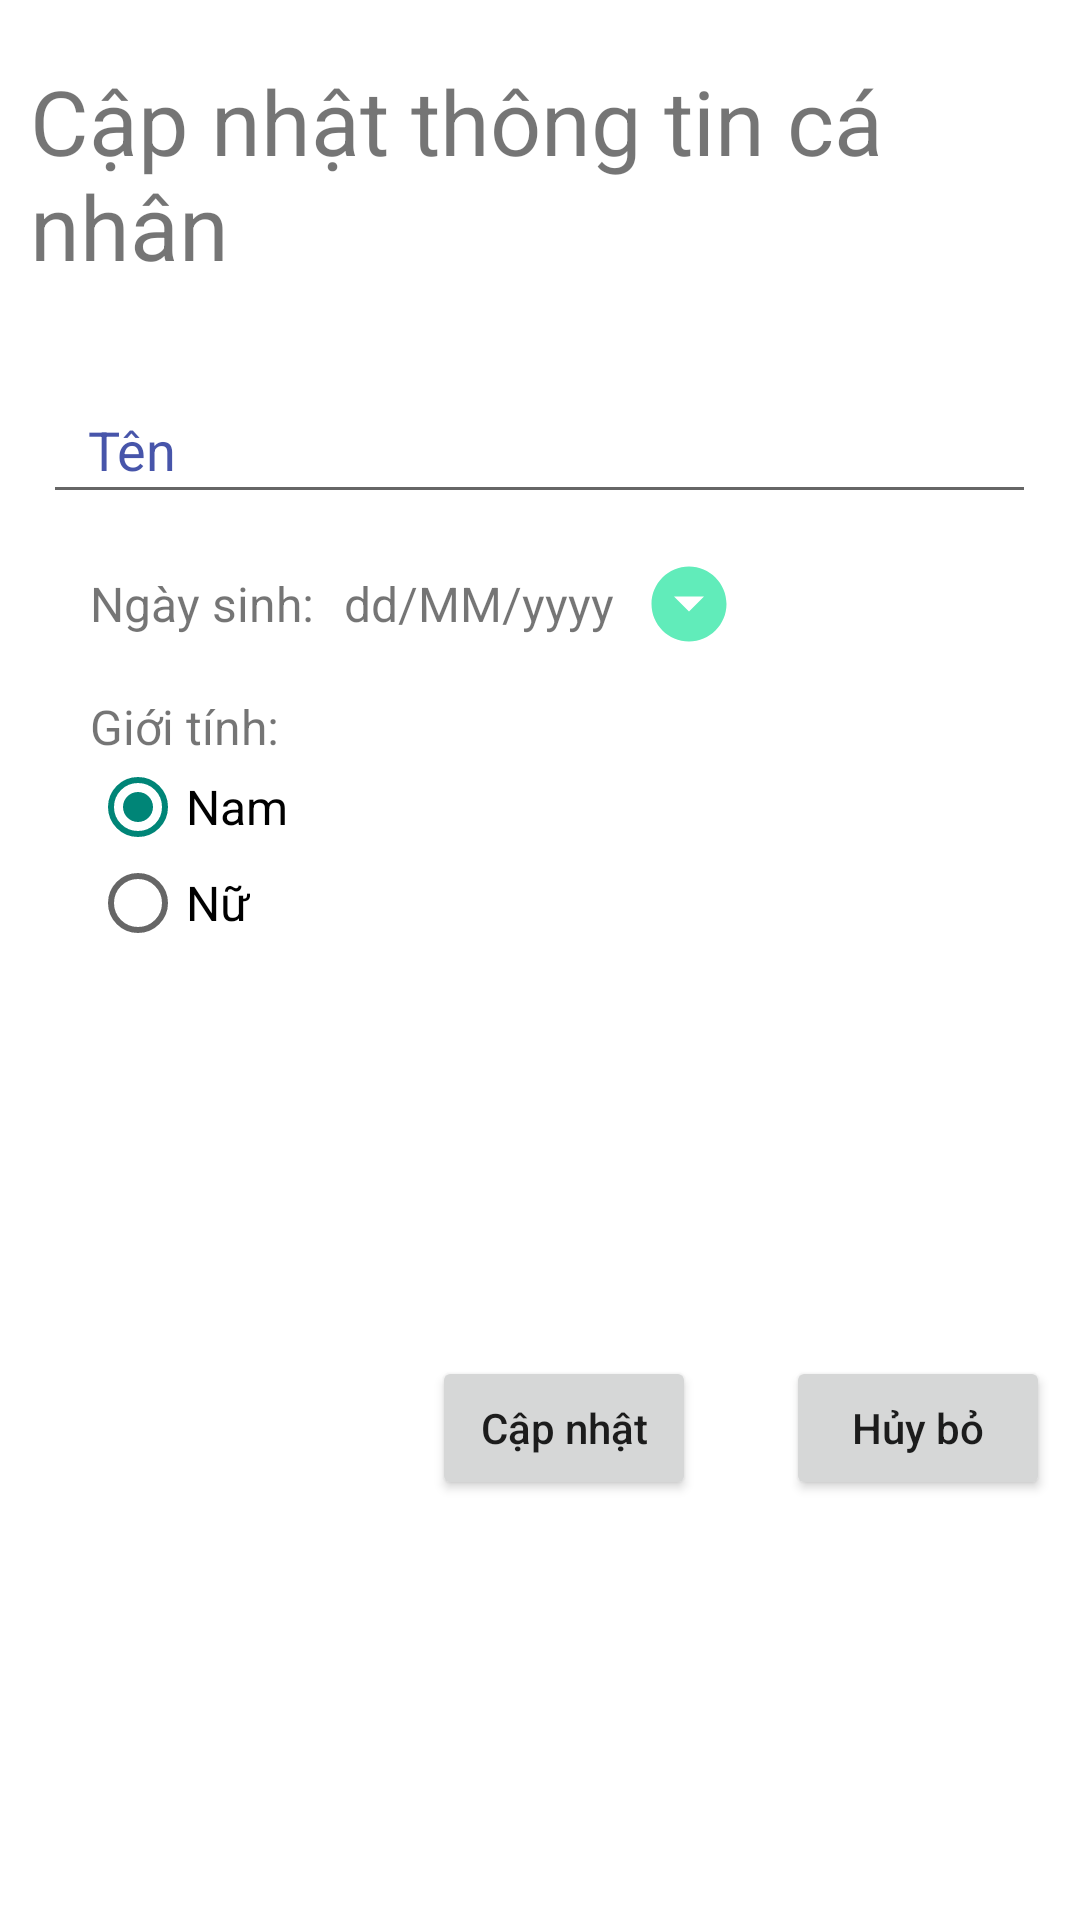

Named icons in this screenshot (1080x1920) and their centers, [x,y]:
arrow drop: [689,604]
